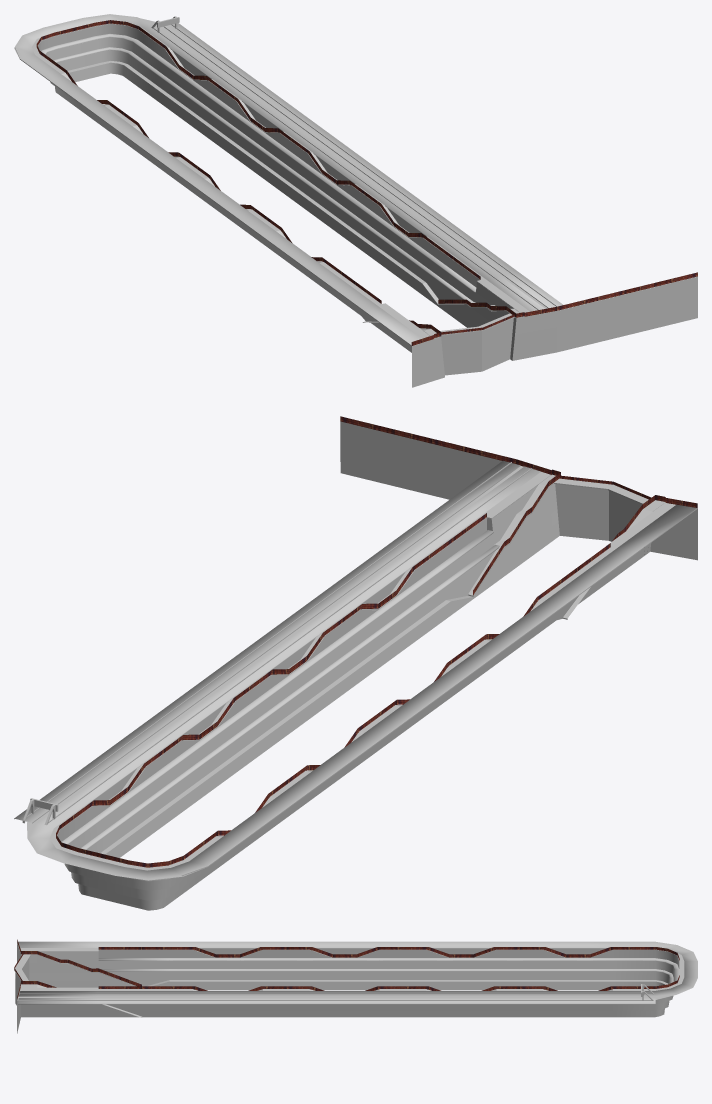
The model's file is doc_body.FBX.
3 renders of one model, top to bottom at view 1: azimuth 30°, elevation 25°; view 2: azimuth 150°, elevation 25°; view 3: azimuth 270°, elevation 25°, orthographic. The views are drawn at different scales.
Parts seen in each view (by area): view 1: doc_body, border; view 2: doc_body, border; view 3: doc_body, border.
Part boxes in pixels (<box>): doc_body: <box>14,14,697,387</box>; border: <box>36,20,697,345</box>; doc_body: <box>14,421,697,910</box>; border: <box>56,416,697,867</box>; doc_body: <box>14,941,697,1033</box>; border: <box>14,939,679,999</box>.
Bounding box in the file's own units: 7783 × 1386 × 19781.
